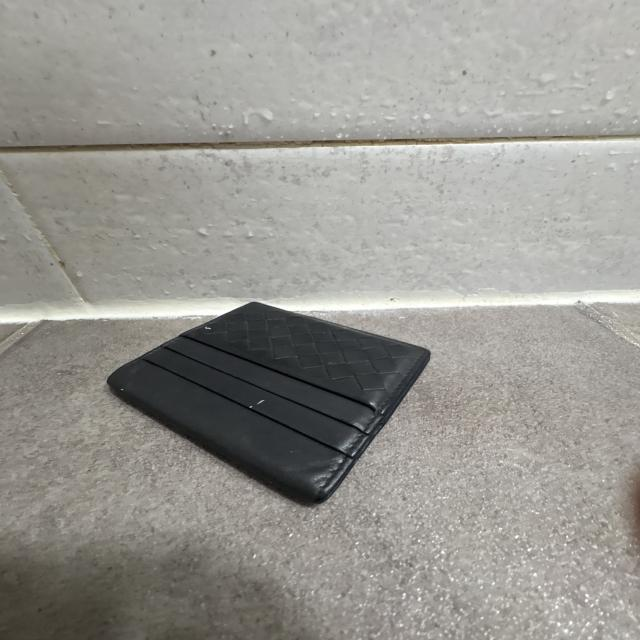wallet: (112, 302, 433, 506)
